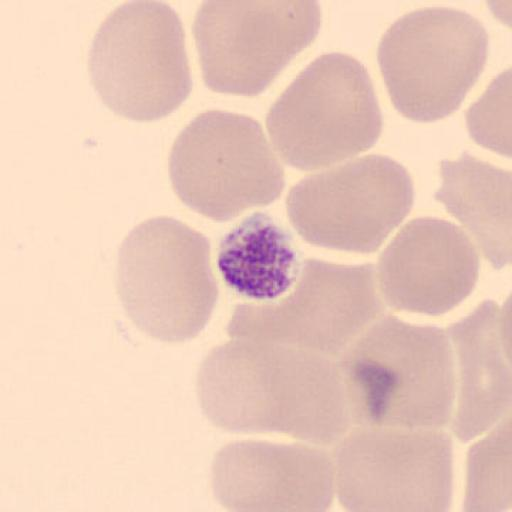Platelet: (216, 211, 302, 302)
RBC: (226, 256, 383, 366), (194, 338, 352, 442), (265, 50, 385, 173), (374, 4, 491, 126), (113, 213, 220, 346), (166, 107, 286, 224), (284, 152, 416, 256), (344, 312, 458, 432), (84, 0, 192, 124), (190, 0, 325, 99), (277, 256, 384, 359), (241, 344, 351, 444), (376, 214, 480, 319), (333, 426, 456, 512), (443, 294, 512, 444), (207, 436, 336, 512), (434, 146, 512, 271), (194, 338, 284, 435), (332, 355, 400, 429), (461, 420, 512, 512), (465, 65, 512, 161), (483, 0, 512, 28)
